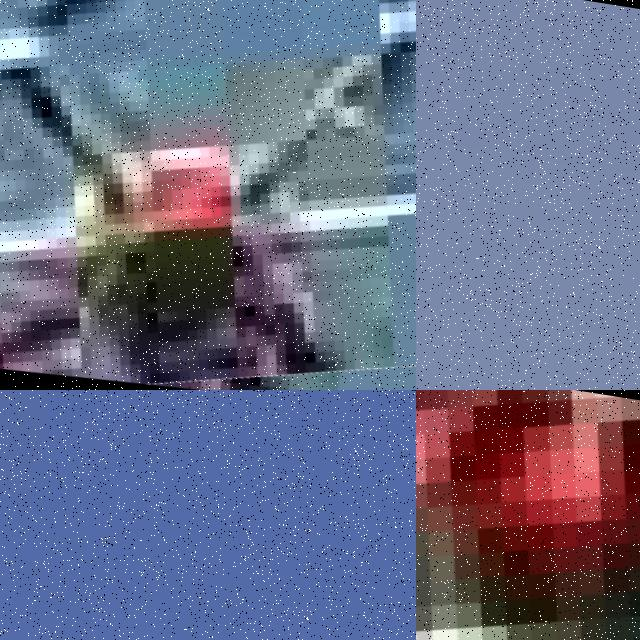drone: (0, 0, 416, 390), (416, 390, 640, 640)
